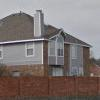Chimney: (27, 5, 52, 45)
